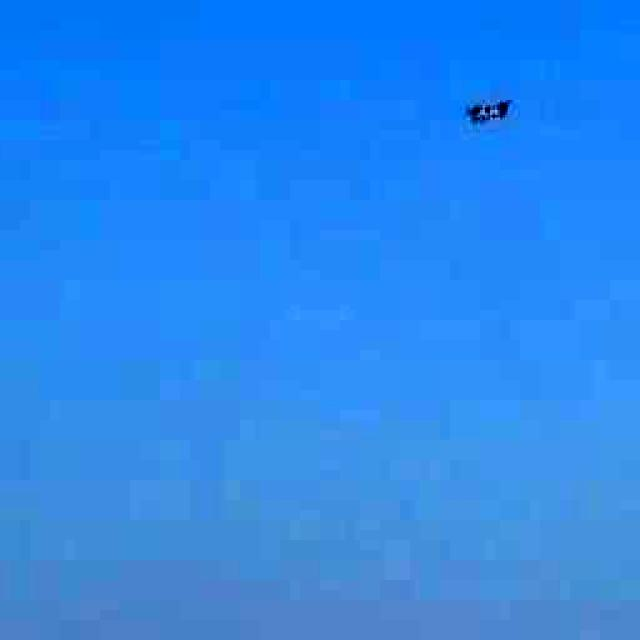bird: (419, 49, 551, 166)
